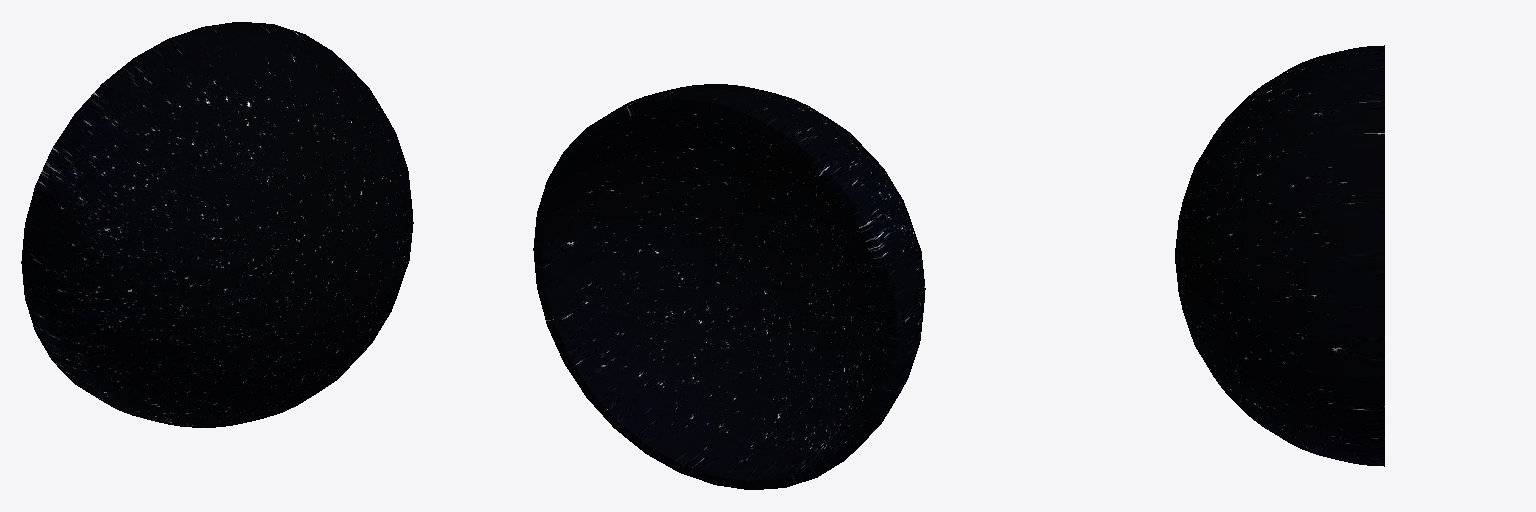
The picture shows the model from 3 angles: view 1: azimuth 30°, elevation 25°; view 2: azimuth 150°, elevation 25°; view 3: azimuth 270°, elevation 25°; orthographic projection.
Parts seen in each view (by area): view 1: Sphere; view 2: Sphere; view 3: Sphere.
Boxes of the visible parts, box(x1,y1,x2,y2) form: Sphere: box(21, 22, 413, 427); Sphere: box(533, 84, 925, 489); Sphere: box(1175, 45, 1384, 466).
Size of the model in its own units: 68.96 by 68.97 by 34.49.
Materials: 1 (1 with a texture image).